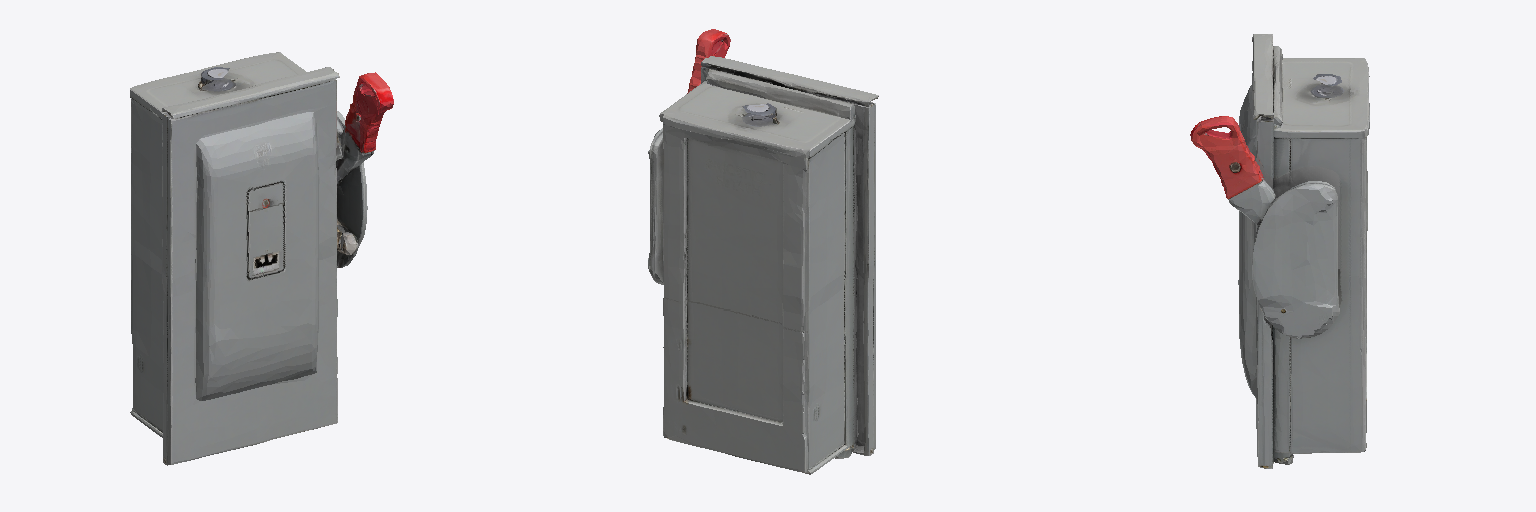
3 renders of one model, left to right at view 1: azimuth 30°, elevation 25°; view 2: azimuth 150°, elevation 25°; view 3: azimuth 270°, elevation 25°, orthographic.
Parts seen in each view (by area): view 1: Circuit_Breaker_[number redacted]_texture; view 2: Circuit_Breaker_[number redacted]_texture; view 3: Circuit_Breaker_[number redacted]_texture.
Boxes of the visible parts, box(x1,y1,x2,y2) form: Circuit_Breaker_[number redacted]_texture: box(130, 52, 393, 465); Circuit_Breaker_[number redacted]_texture: box(648, 29, 878, 474); Circuit_Breaker_[number redacted]_texture: box(1190, 34, 1369, 468).
Size of the model in its own units: 1.13 by 2 by 0.8994.
1 materials, 1 textured.